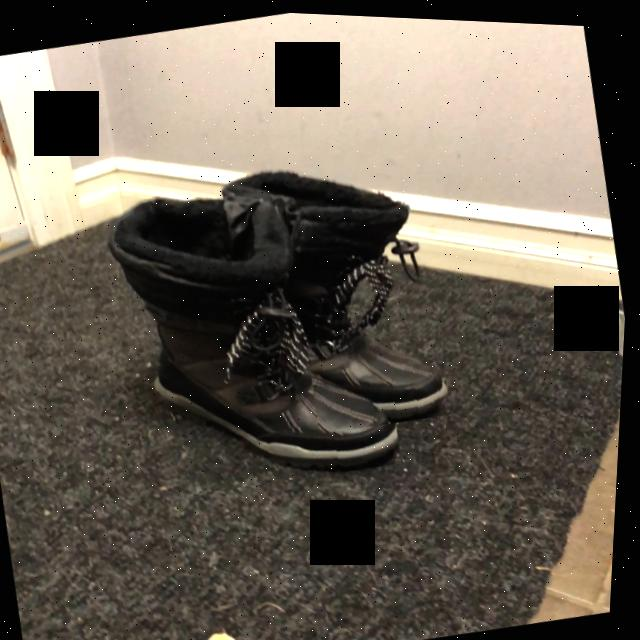shoe: (158, 320, 404, 470), (315, 332, 452, 419)
